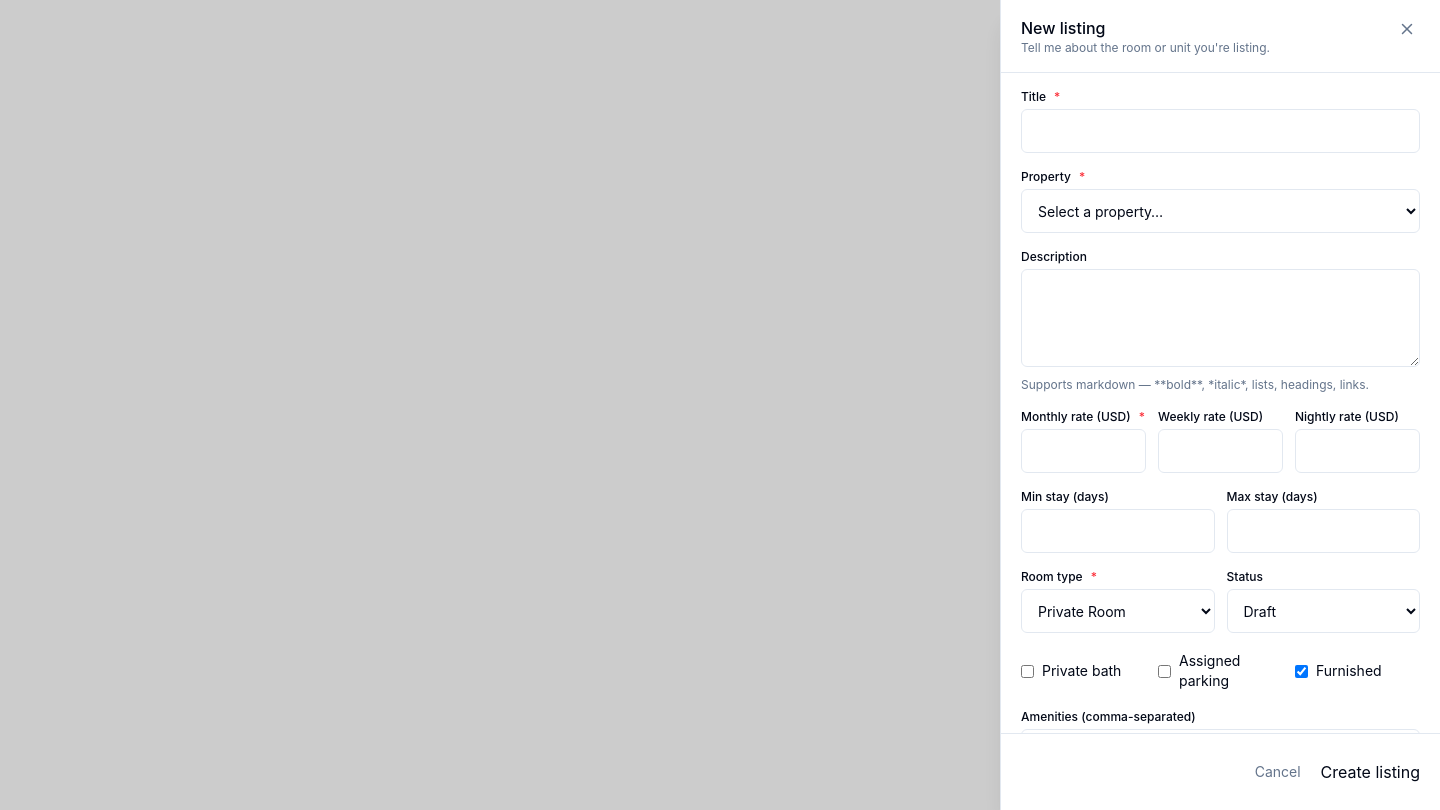
ListingForm › create mode › shows a live markdown preview when description is typed
Note: Type markdown into the description textarea
Step 1. Type "**Bold pricing**" into the text box with test id "listing-form-description" → (1220, 318), box [1021,269,1420,367]
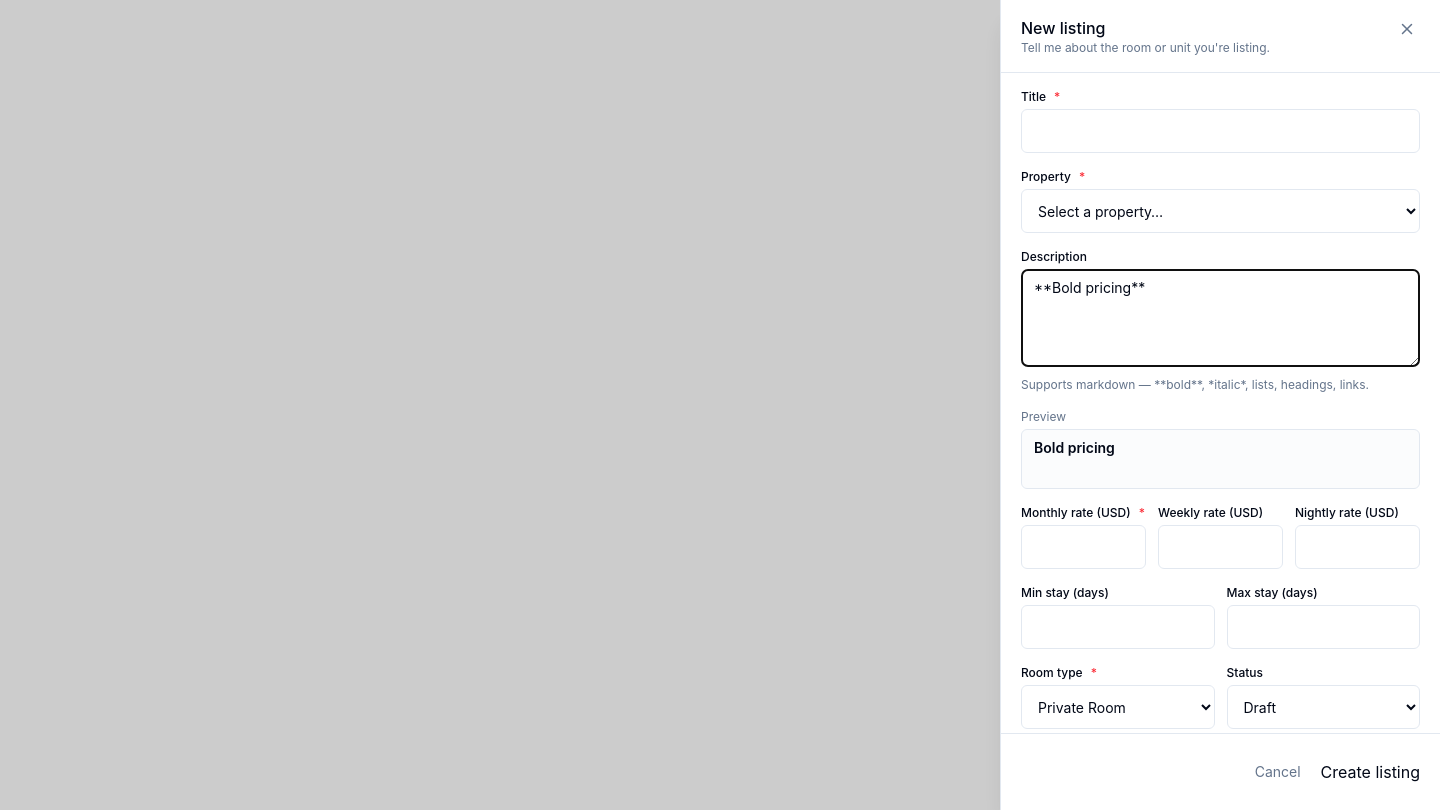
Check: the element with test id "listing-form-description-preview" does not show "**"
Check: the element with test id "listing-form-description-preview" is shown, box [1021,409,1420,489]
Check: the element with test id "listing-form-description-preview" shows "Bold pricing", box [1034,439,1115,456]
